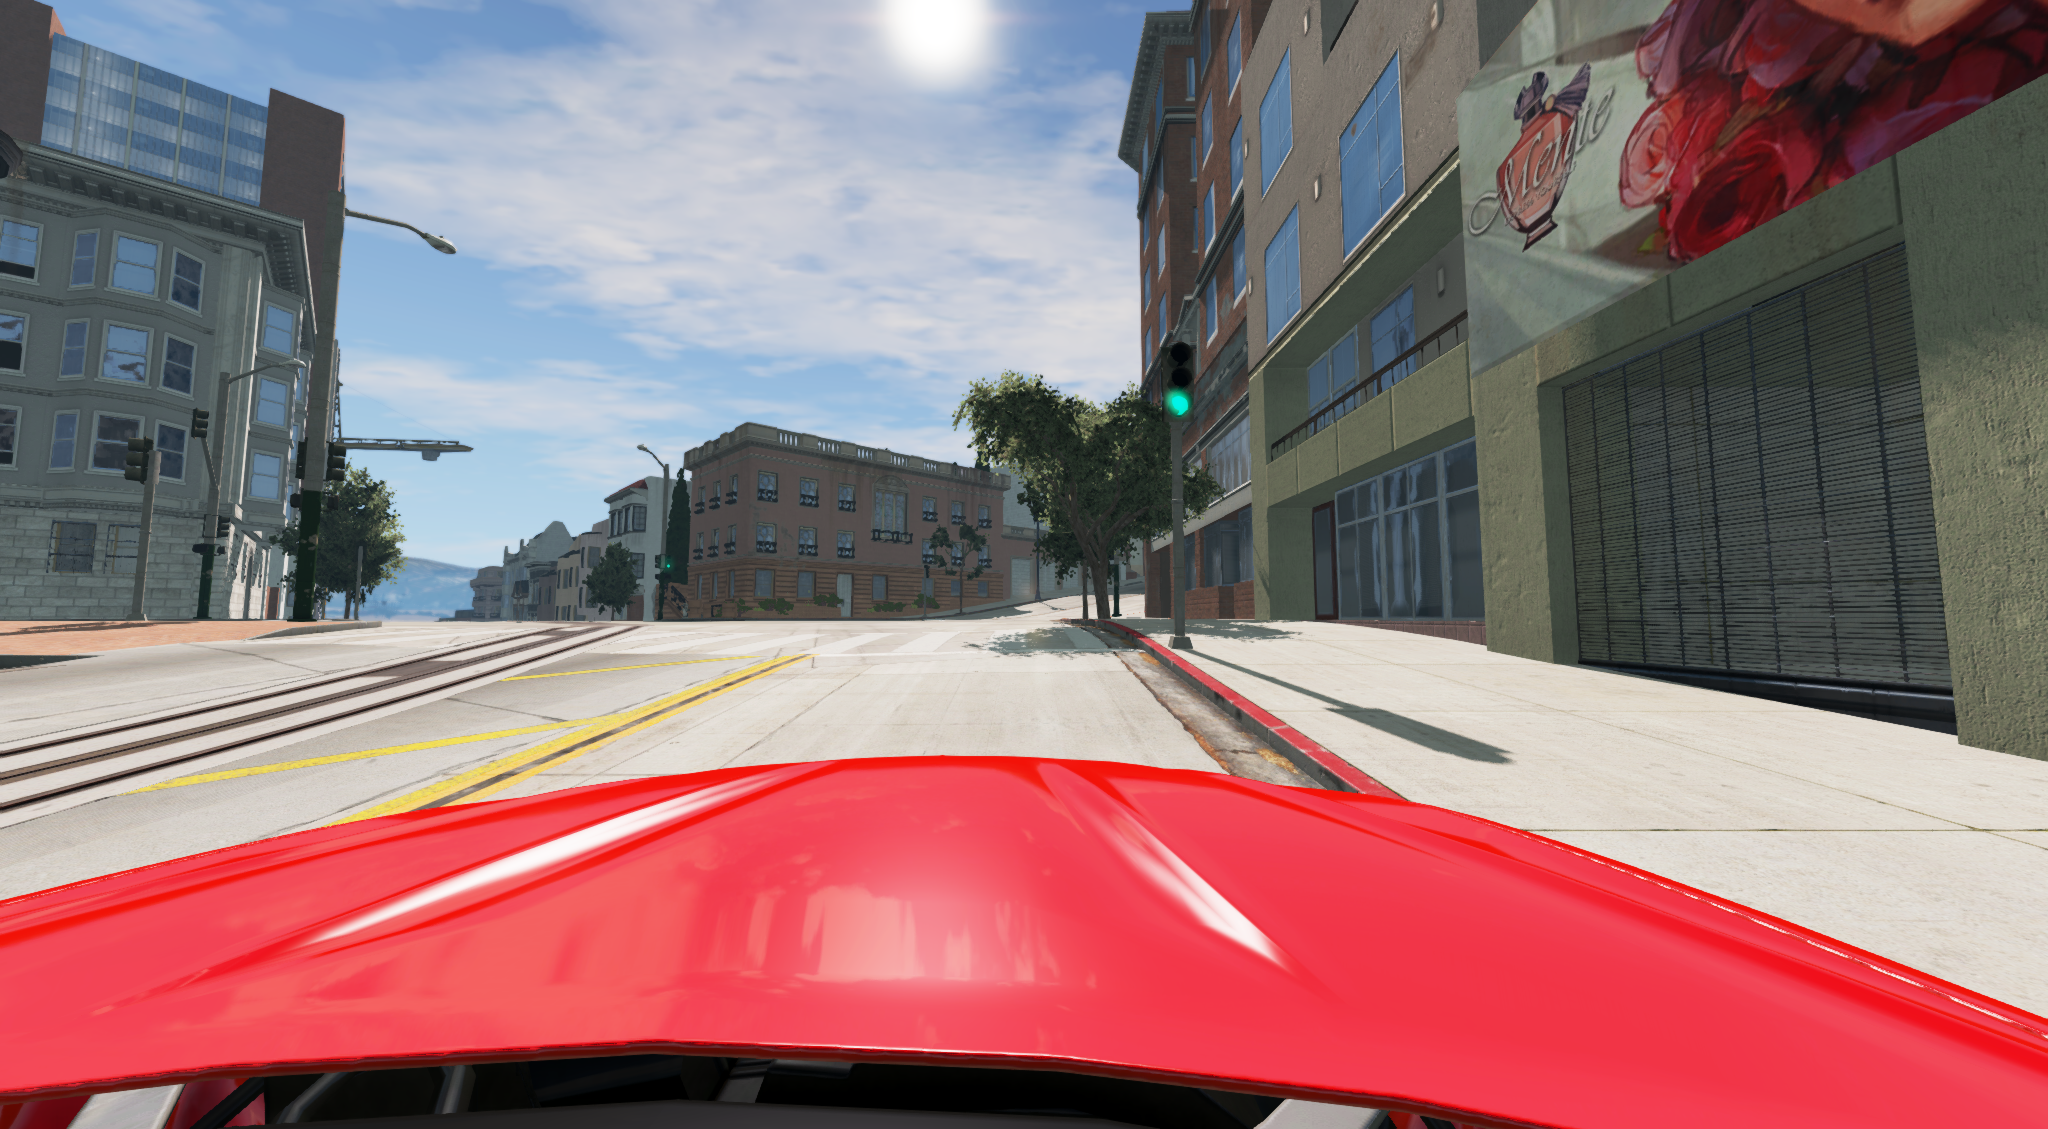green: (1148, 339, 1205, 432)
